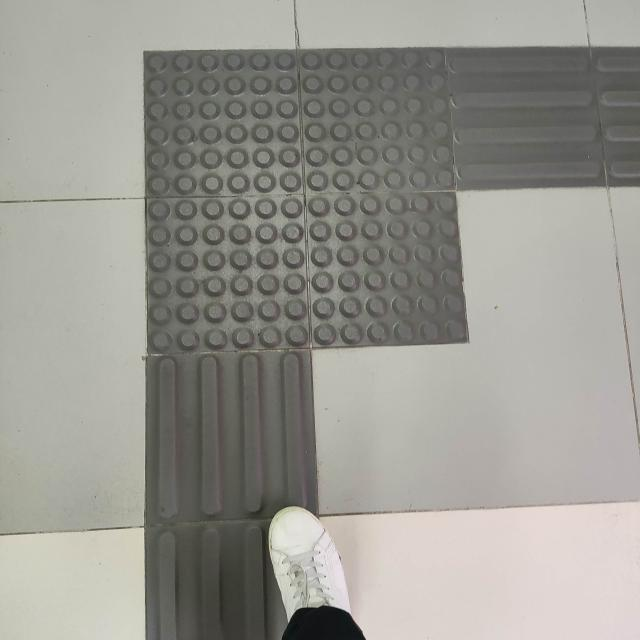kanan: (70, 8, 640, 466)
